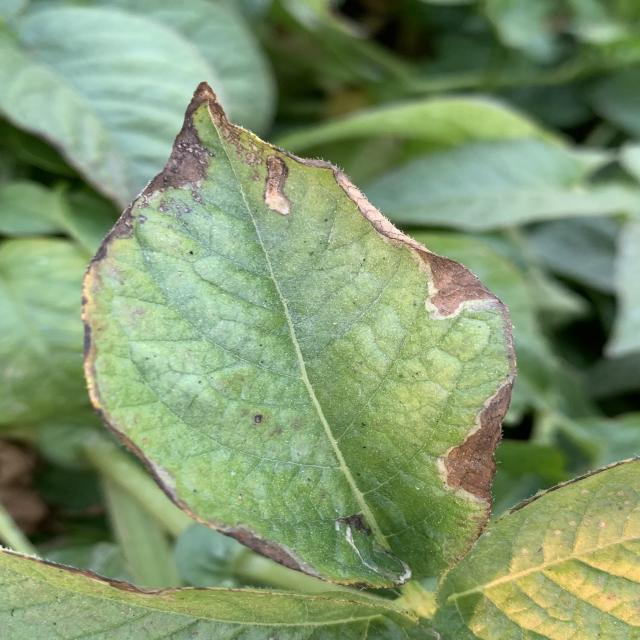lateblight: (295, 158, 505, 319), (137, 82, 313, 201), (437, 376, 513, 502), (202, 520, 325, 576)
